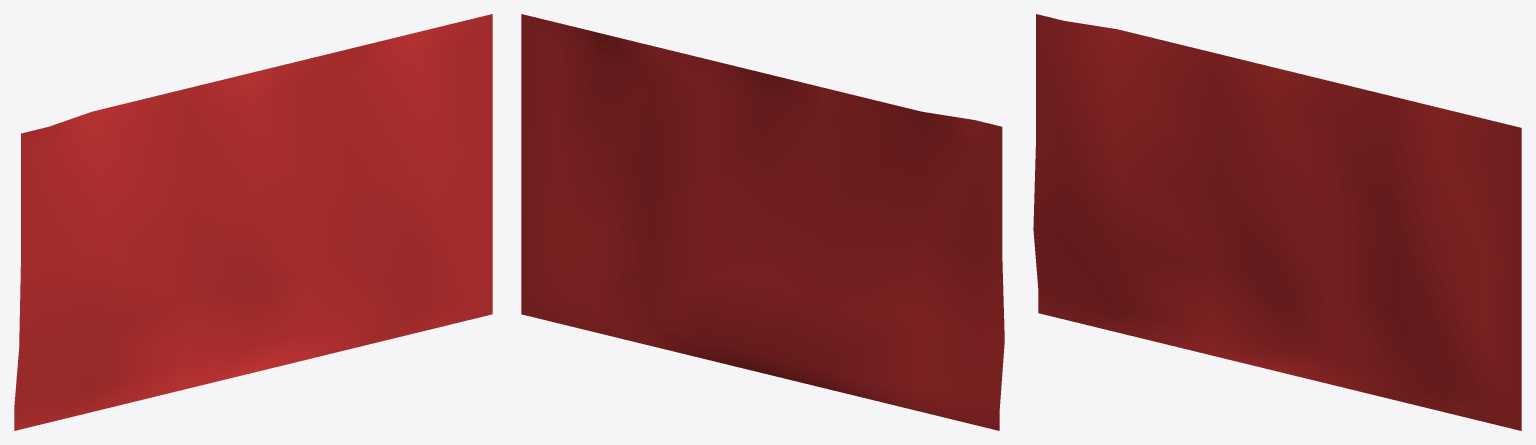
The model's file is mw_fishing_net.FBX.
3 views of the same model, side by side, from view 1: azimuth 30°, elevation 25°; view 2: azimuth 150°, elevation 25°; view 3: azimuth 330°, elevation 25° (orthographic).
Parts seen in each view (by area): view 1: mw_fishing_net; view 2: mw_fishing_net; view 3: mw_fishing_net.
Part boxes in pixels (x1,y1,x2,y2): mw_fishing_net: [14, 14, 492, 430]; mw_fishing_net: [521, 14, 1004, 430]; mw_fishing_net: [1033, 14, 1521, 430].
Size of the model in its own units: 339 by 203 by 15.21.
